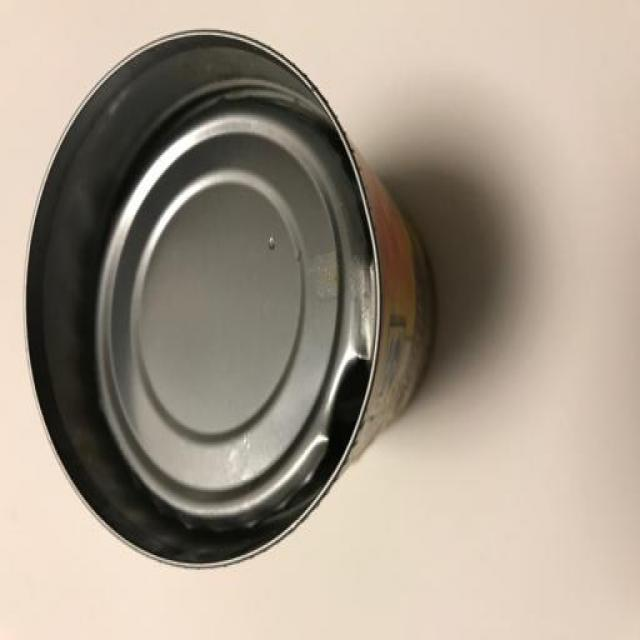metel: (17, 19, 448, 640)
